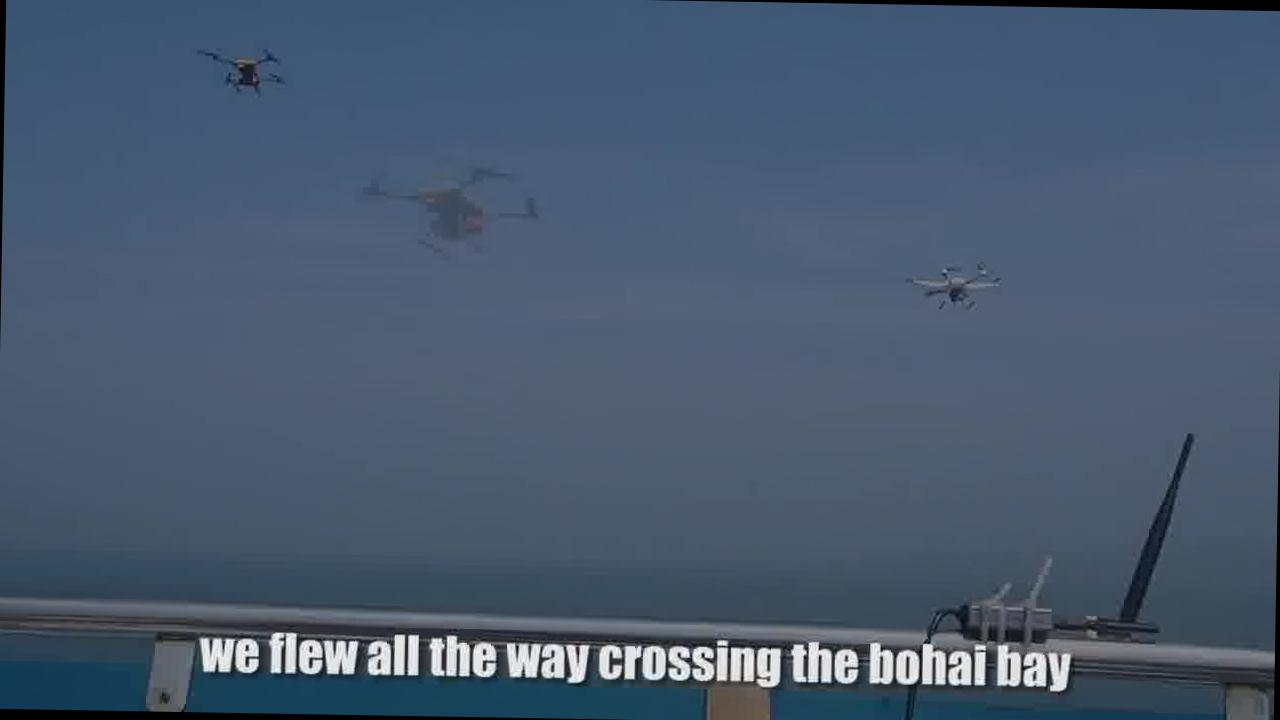drone: (900, 253, 1006, 316), (196, 42, 292, 98)
